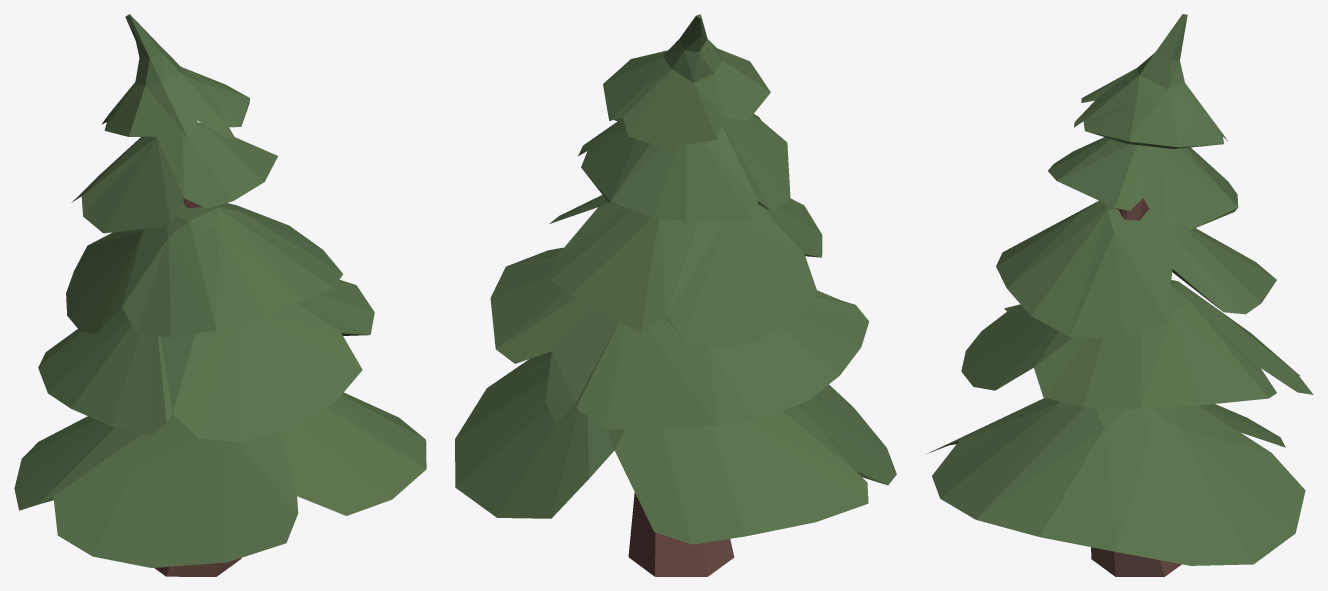
File: PineTree_1.lod2.glb
3 views of the same model, side by side, from view 1: azimuth 30°, elevation 25°; view 2: azimuth 150°, elevation 25°; view 3: azimuth 270°, elevation 25° (orthographic). The views are drawn at different scales.
Parts seen in each view (by area): view 1: PineTree_1; view 2: PineTree_1; view 3: PineTree_1.
Boxes of the visible parts, box(x1,y1,x2,y2) form: PineTree_1: box(14, 14, 426, 576); PineTree_1: box(455, 14, 896, 576); PineTree_1: box(927, 14, 1313, 576).
Bounding box in the file's own units: 1.95 × 2.7 × 1.81.
